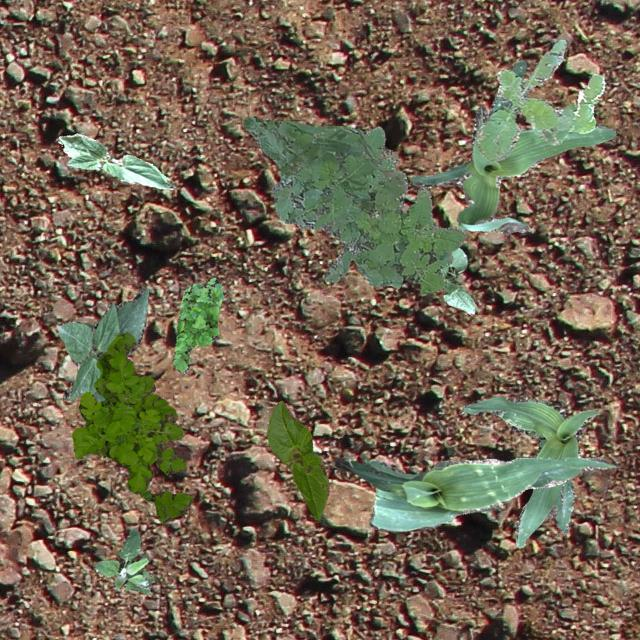crop: (410, 59, 614, 232), (334, 456, 616, 530), (462, 396, 598, 546), (56, 286, 148, 400), (266, 400, 328, 520), (56, 132, 175, 188), (438, 247, 474, 314)
weed: (242, 114, 464, 294), (72, 330, 192, 520), (476, 38, 604, 162), (172, 276, 222, 374), (92, 528, 154, 592)
